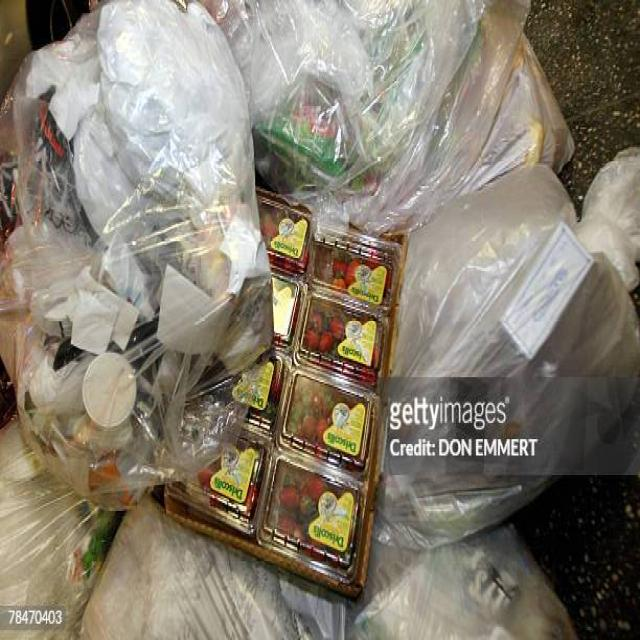plastic: (238, 243, 434, 567)
trash: (18, 47, 273, 475), (446, 198, 636, 504), (326, 5, 532, 207)
